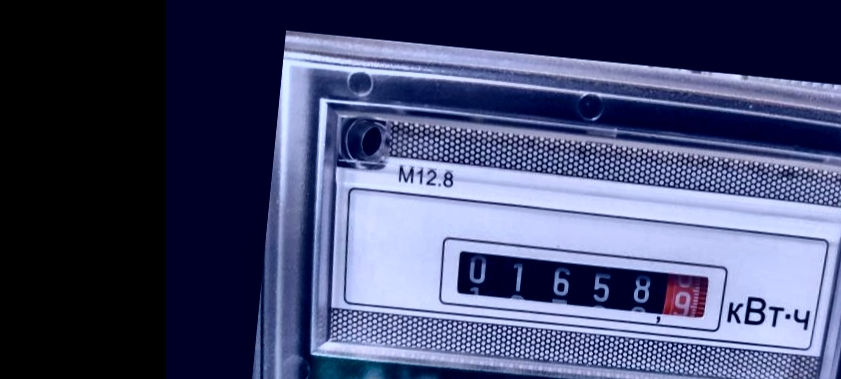0: (467, 253, 490, 285)
1: (510, 260, 530, 294)
5: (591, 270, 615, 303)
6: (552, 263, 575, 298)
8: (632, 271, 655, 305)
9: (671, 289, 695, 319)
screen: (429, 228, 735, 339)
